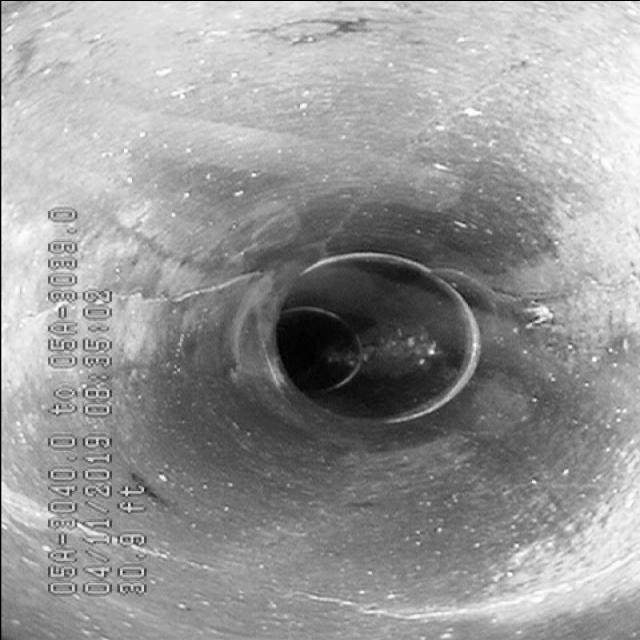Crack: (116, 264, 254, 314)
